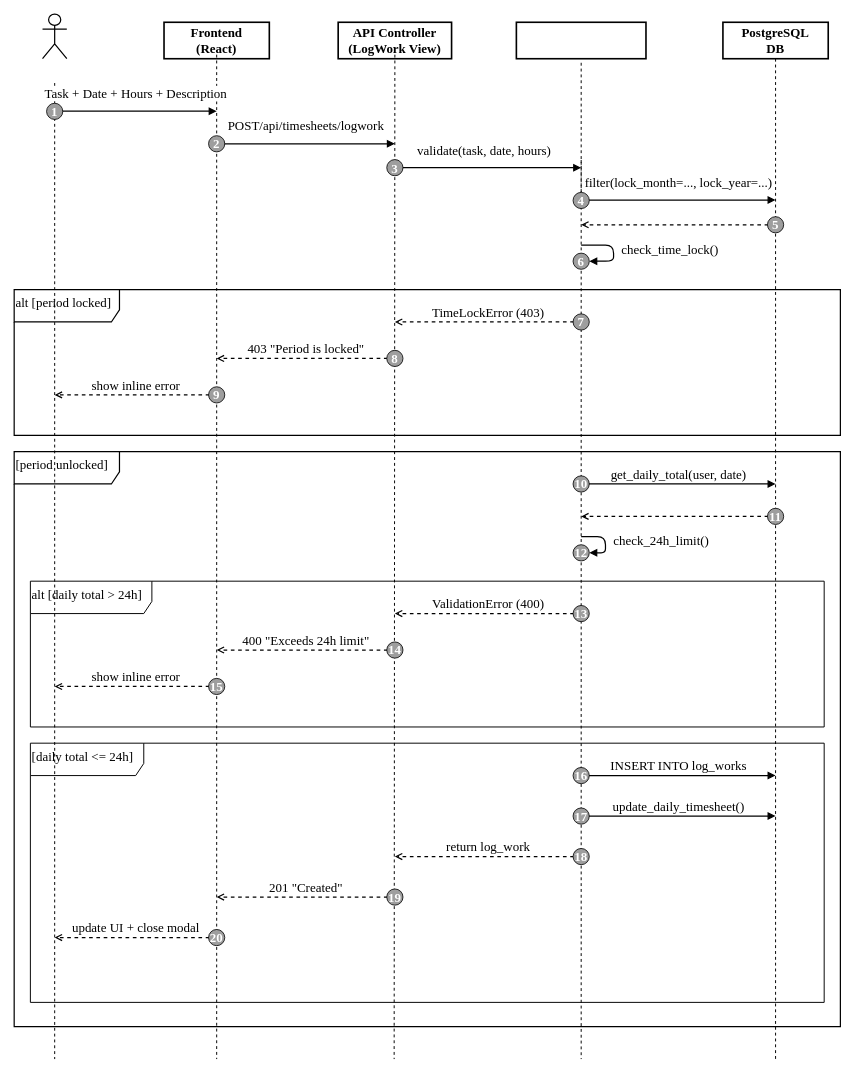
This 855x1075 diagram has some shape labels left out. Here are the shapes that lost their labels. From the top down, the centre of each, then its label:
(x=54, y=36): USER
(x=580, y=40): Timesheet Logic (LogWorkSerializer)
